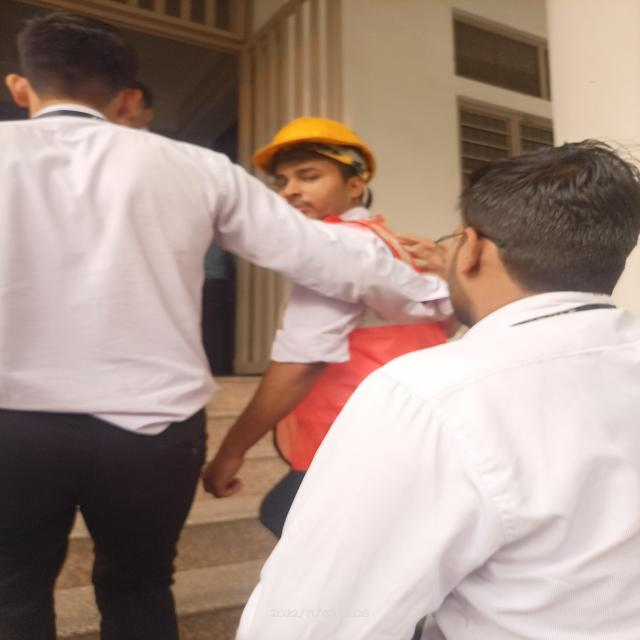safe: (207, 115, 456, 540)
unsafe: (0, 8, 304, 640), (254, 143, 639, 640)
